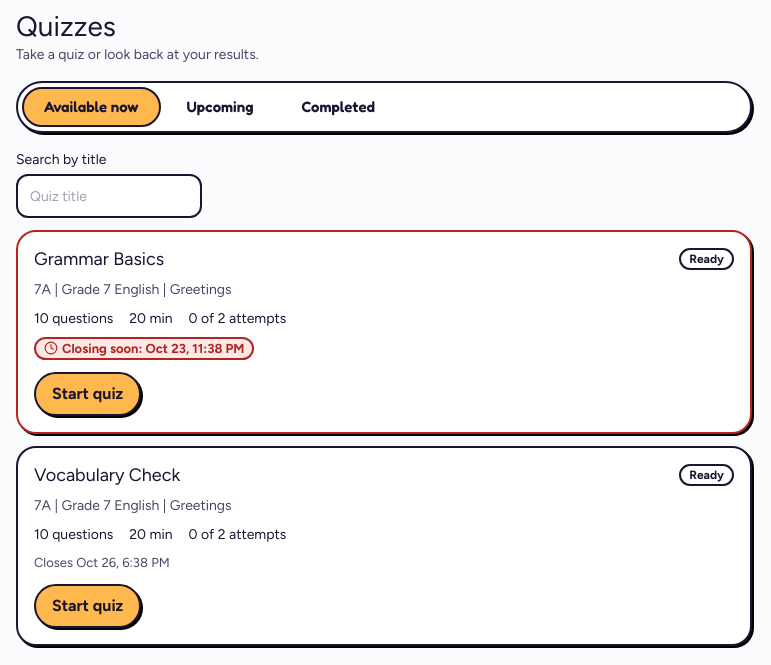
Test: QuizzesHubPage › shows why an upcoming quiz is not open
This screenshot has width=771, height=665.
Click the tab "Upcoming" at [220, 107], box [164,87,276,127]
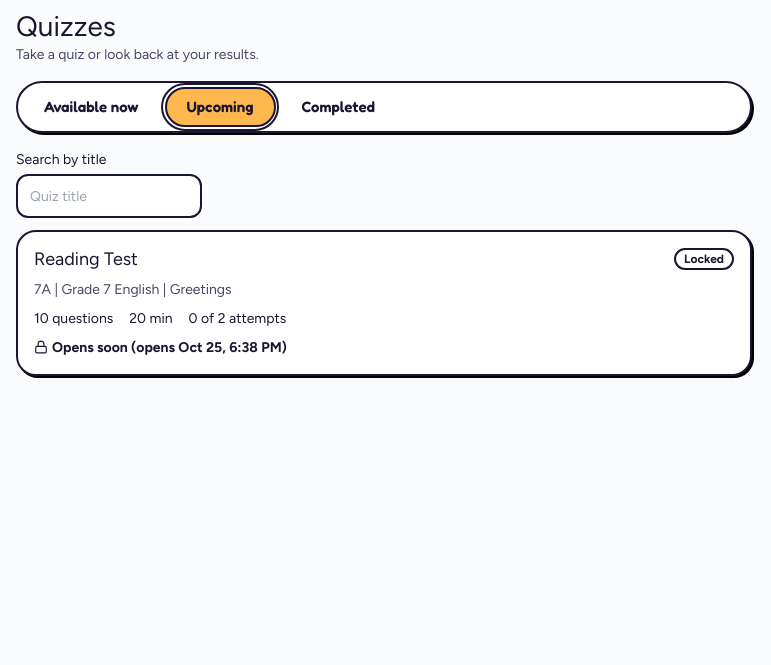
Expected: the text "Opens soon (opens Oct 25, 6:38 PM)" is shown, [34,338,287,356]
Expected: the link "Start quiz" is gone
